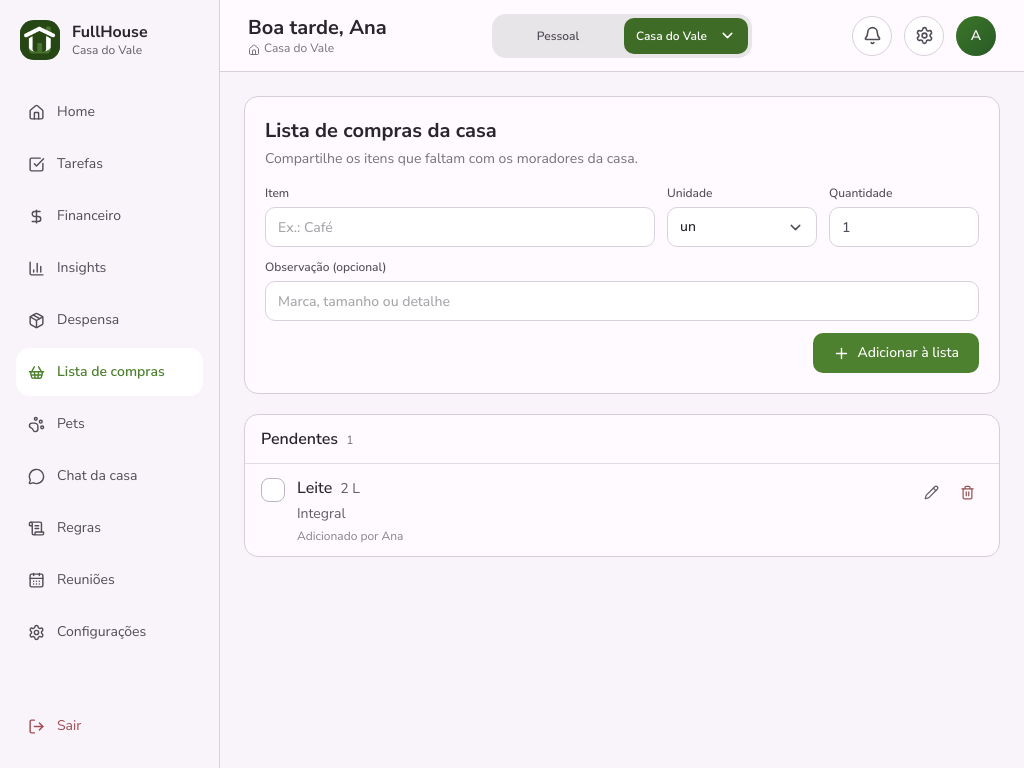
Test case: ShoppingListPage › switches residence and reloads only that household's items
The image size is (1024, 768).
Click the dropdown named "Lista da casa": (686, 36) top-left (624, 18), bottom-right (748, 54)
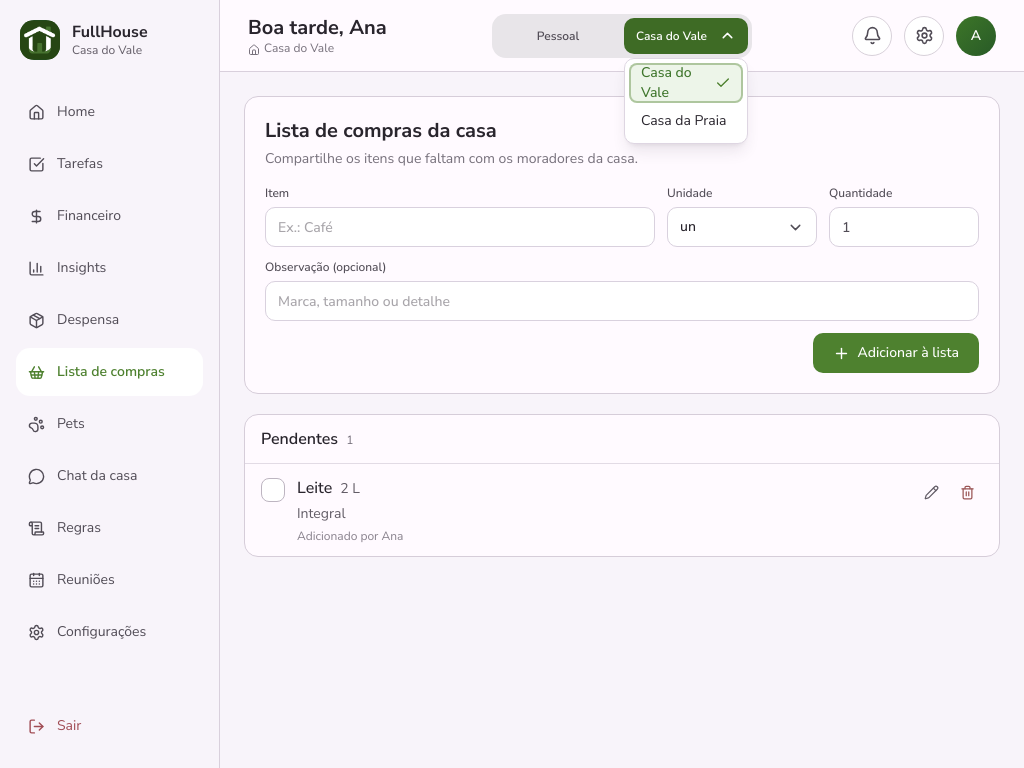
Click the option "Casa da Praia": (686, 120) top-left (629, 102), bottom-right (743, 138)
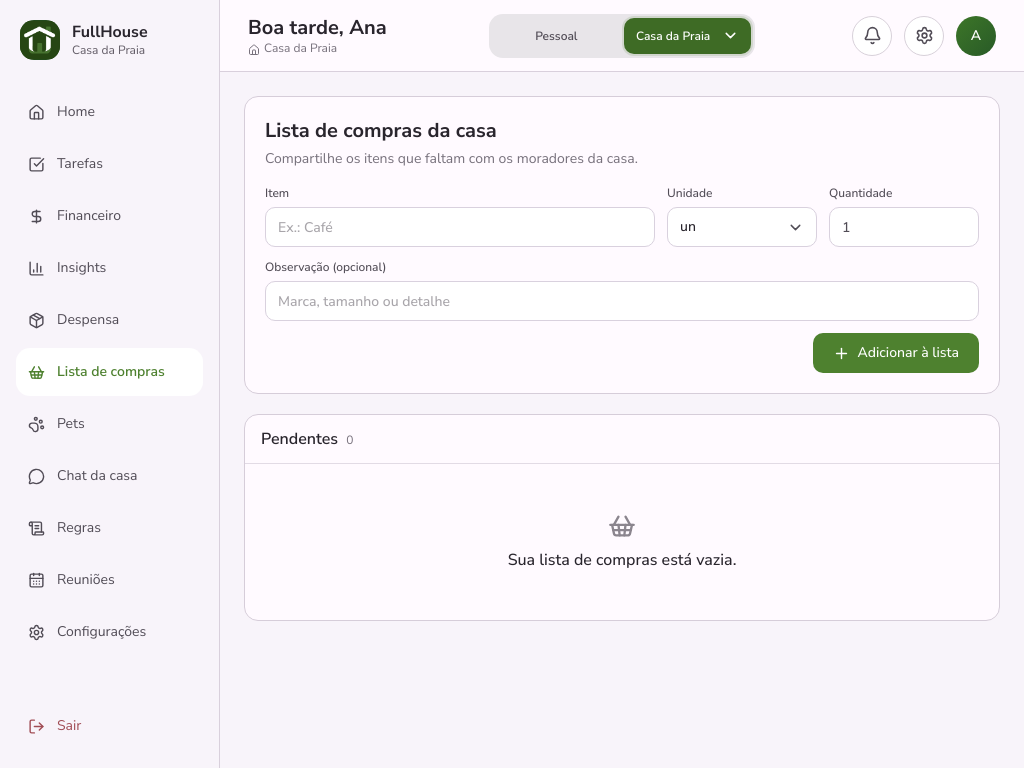
Result: the text "Sua lista de compras está vazia." is shown at top-left (508, 549), bottom-right (736, 571)
